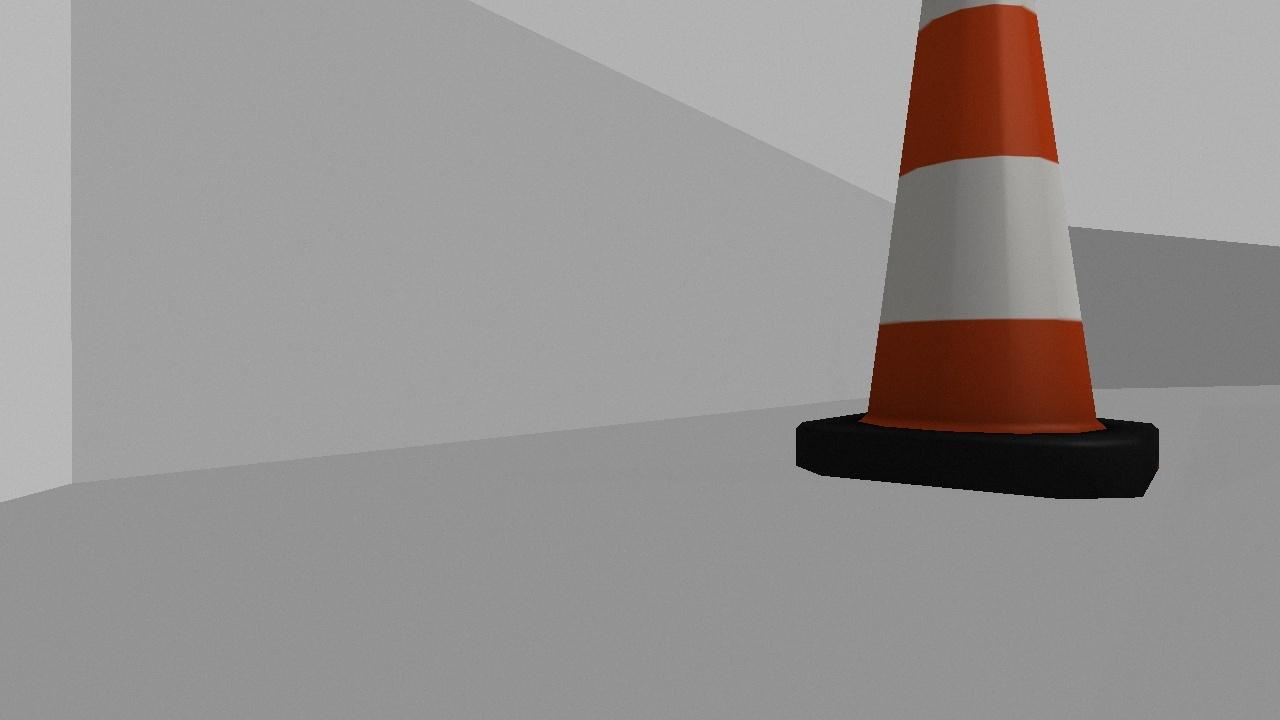cone_barrel: (796, 0, 1159, 499)
